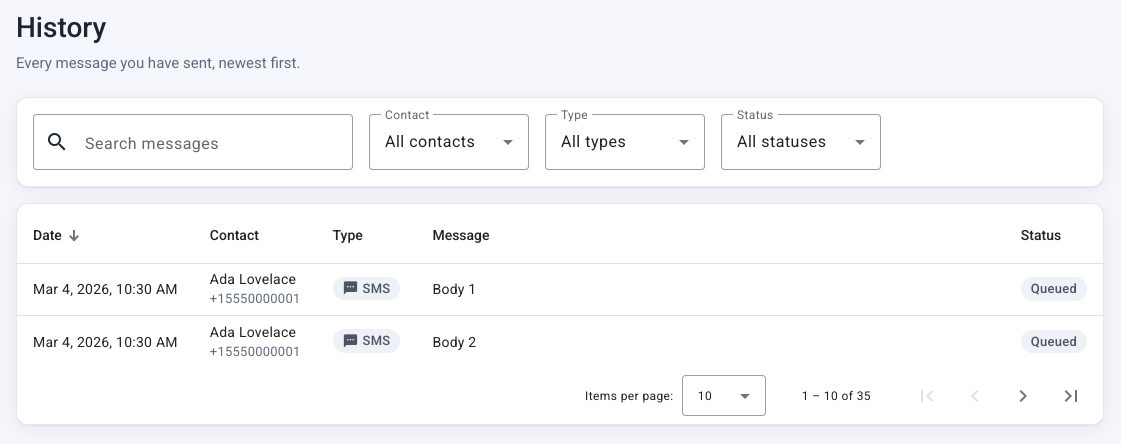
Test: HistoryPageComponent › loading › keeps the previous rows visible while the next page loads
The width and height of the screenshot is (1121, 444).
Click the button named "Next page" at (1023, 396), box [999, 372, 1047, 420]
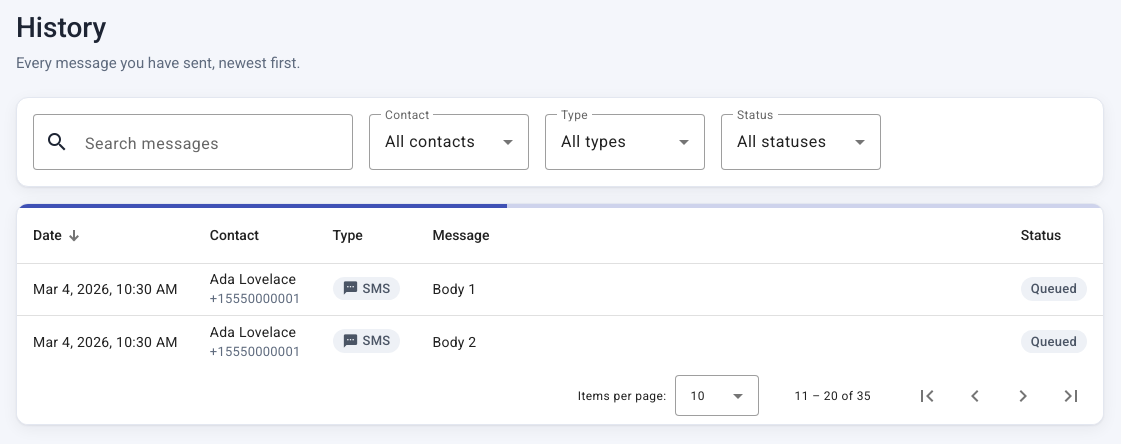
expect the progress indicator named "Loading" is shown: met, box [17, 204, 1103, 208]
